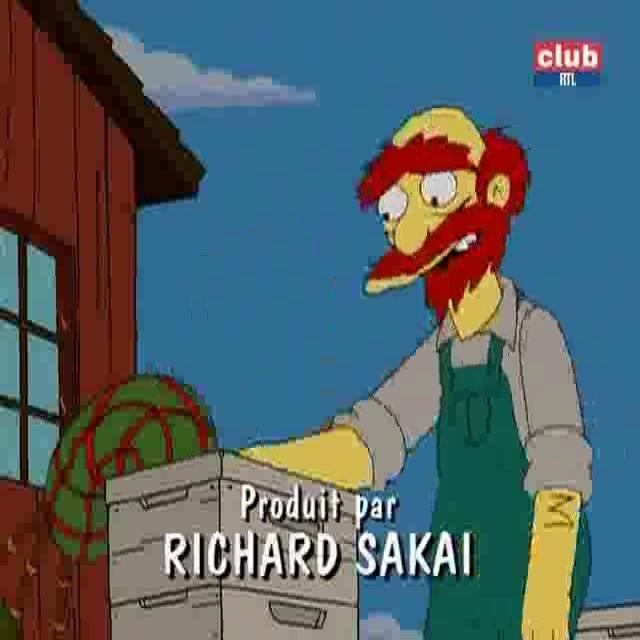Groundskeeper Willie: (354, 104, 534, 333)
